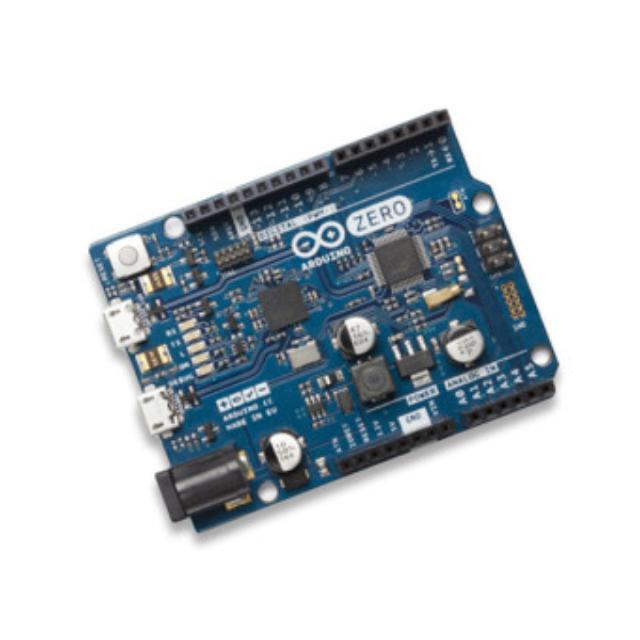Arduino-Zero: (91, 111, 559, 533)
